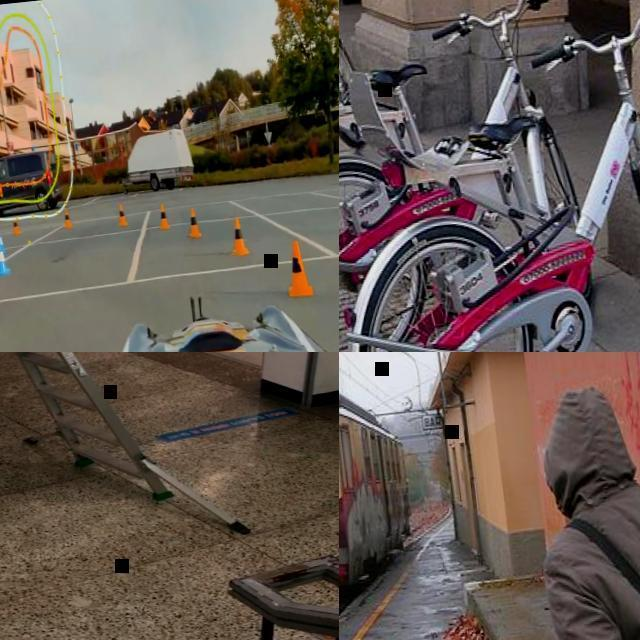no_helmet: (532, 381, 624, 468)
